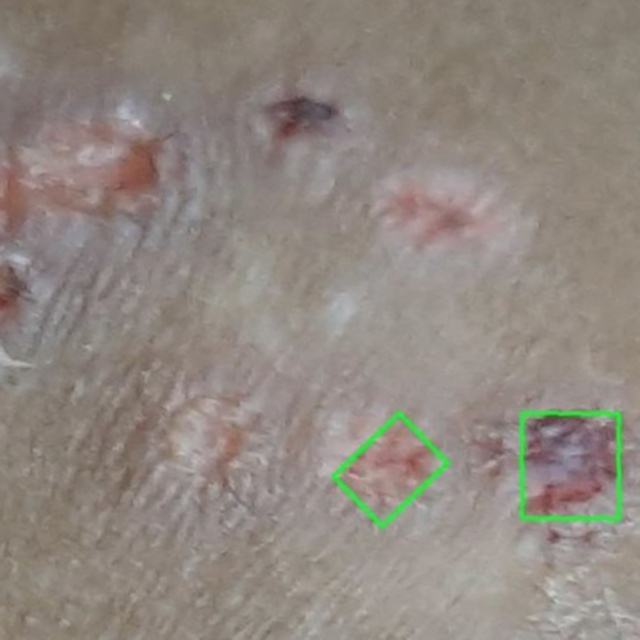Eczema: (332, 412, 446, 525), (521, 412, 618, 517)
